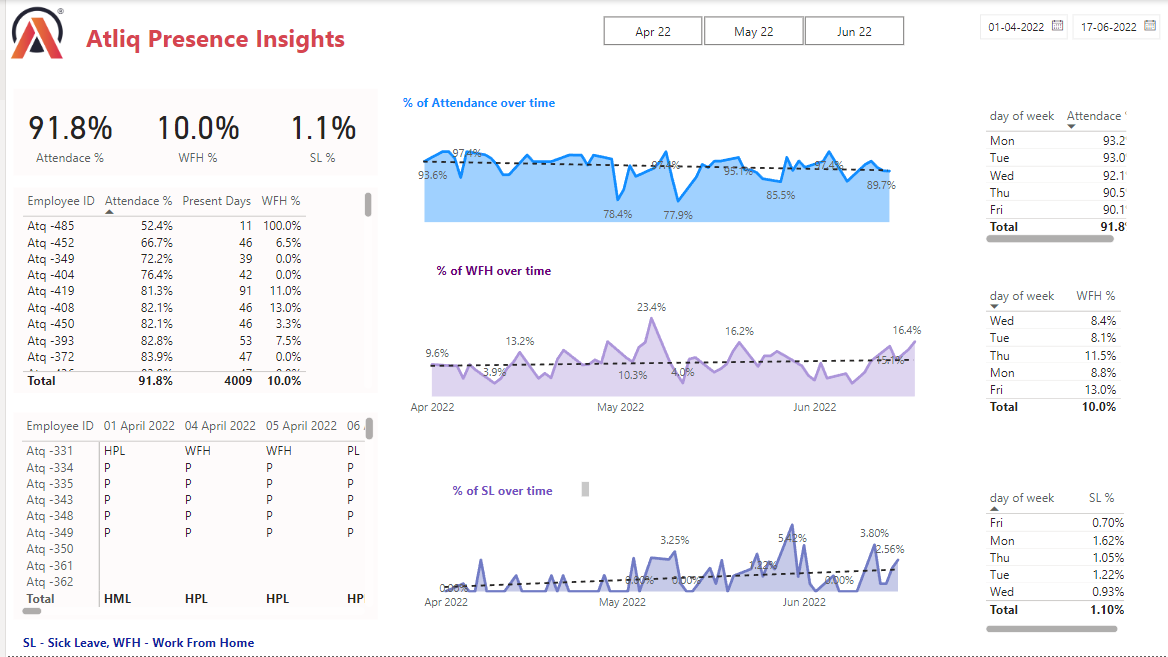

What the dashboard file says about the page in this screenshot:
{"tool":"powerbi","page":{"name":"Presence Insights","canvas":[1280,720],"ordinal":0},"visuals":[{"type":"textbox","box":[7.8,205.6,399.9,225.5],"z":0},{"type":"textbox","box":[7.8,453.3,399.8,227.6],"z":1000},{"type":"textbox","box":[7.8,98,399.9,95.4],"z":3000},{"type":"tableEx","fields":{"Values":["Final Data.Employee ID","Measures (2).Attendace %","Measures (2).Present Days","Measures (2).WFH %"]},"box":[12.6,205.2,394.9,225.7],"z":4000},{"type":"slicer","fields":{"Values":["Final Data.Date"]},"box":[1056.6,5.5,223.7,50.8],"z":5000},{"type":"slicer","fields":{"Values":["Final Data.MMM YY"]},"box":[629.8,11,380.1,45.3],"z":6000},{"type":"areaChart","fields":{"Category":["Final Data.MMM YY","Final Data.Date"],"Y":["Measures (2).WFH %"]},"box":[437.2,311.3,589,153.5],"z":7000},{"type":"areaChart","fields":{"Category":["Final Data.WeekNo","Final Data.Date"],"Y":["Measures (2).Attendace %"]},"box":[444.1,144.9,540.4,103.2],"z":8000},{"type":"card","fields":{"Values":["Measures (2).Attendace %"]},"box":[7.8,98,124,96.3],"z":9000},{"type":"card","fields":{"Values":["Measures (2).WFH %"]},"box":[141.4,98,138.8,96.3],"z":10000},{"type":"areaChart","fields":{"Category":["Final Data.MMM YY","Final Data.Date"],"Y":["Measures (2).SL %"]},"box":[453.4,553.8,555.7,124.9],"z":11000},{"type":"image","box":[0,0,70,71],"z":12000},{"type":"card","fields":{"Values":["Measures (2).SL %"]},"box":[286.3,97.2,121.4,96.3],"z":13000},{"type":"textbox","box":[70.3,0,320.1,71.1],"z":14000},{"type":"textbox","box":[422.4,98.2,192.5,27.5],"z":15000},{"type":"textbox","box":[452.8,524.2,192.1,26.1],"z":16000},{"type":"textbox","box":[438.6,282.7,192.6,27.2],"z":17000},{"type":"pivotTable","fields":{"Rows":["Final Data.Employee ID"],"Columns":["Final Data.Date"],"Values":["Min(Final Data.Value)"]},"box":[11.7,453.3,395.9,227.6],"z":18000},{"type":"textbox","box":[13.6,691.6,289.8,28.2],"z":19000},{"type":"tableEx","fields":{"Values":["Final Data.day of week","Measures (2).Attendace %"]},"box":[1069,112.5,166,159.2],"z":20000},{"type":"tableEx","fields":{"Values":["Final Data.day of week","Measures (2).SL %"]},"box":[1069,532.4,163.3,167.4],"z":21000},{"type":"tableEx","fields":{"Values":["Final Data.day of week","Measures (2).WFH %"]},"box":[1069,310.1,163.3,167.4],"z":22000}]}

Visuals, with their boxes in screenshot pixels (x1, y1, x2, y2), scaled from the page's 1280x720 canvas onto the 1168x657 screenshot:
textbox: (7, 188, 372, 393)
textbox: (7, 414, 372, 621)
textbox: (7, 89, 372, 176)
tableEx - Final Data.Employee ID x Measures (2).Attendace %: (11, 187, 372, 393)
slicer - Final Data.Date: (964, 5, 1167, 51)
slicer - Final Data.MMM YY: (575, 10, 922, 51)
areaChart - Final Data.MMM YY x Final Data.Date: (399, 284, 936, 424)
areaChart - Final Data.WeekNo x Final Data.Date: (405, 132, 898, 226)
card - Measures (2).Attendace %: (7, 89, 120, 177)
card - Measures (2).WFH %: (129, 89, 256, 177)
areaChart - Final Data.MMM YY x Final Data.Date: (414, 505, 921, 619)
image: (0, 0, 64, 65)
card - Measures (2).SL %: (261, 89, 372, 177)
textbox: (64, 0, 356, 65)
textbox: (385, 90, 561, 115)
textbox: (413, 478, 588, 502)
textbox: (400, 258, 576, 283)
pivotTable - Final Data.Employee ID x Final Data.Date: (11, 414, 372, 621)
textbox: (12, 631, 277, 656)
tableEx - Final Data.day of week x Measures (2).Attendace %: (975, 103, 1127, 248)
tableEx - Final Data.day of week x Measures (2).SL %: (975, 486, 1124, 639)
tableEx - Final Data.day of week x Measures (2).WFH %: (975, 283, 1124, 436)
